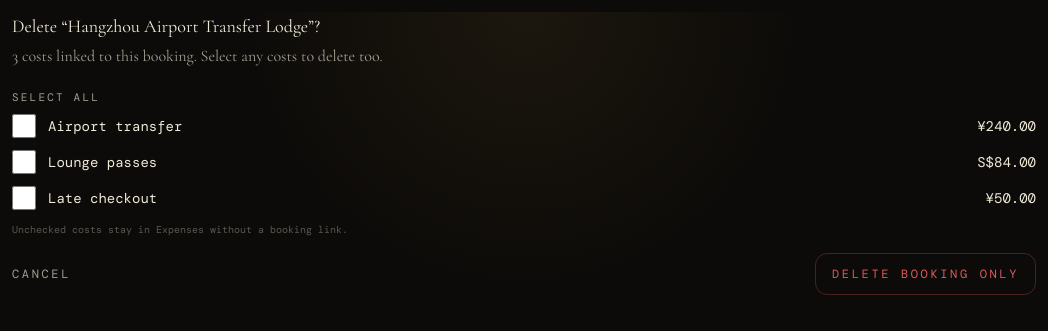
Test: BookingDeleteReview › counts spelling variants of one name as one person
The width and height of the screenshot is (1048, 331).
Click the checkbox labelled "Airport transfer ¥240.00". click: coordinates (24, 126)
box: top-left (12, 114), bottom-right (36, 138)
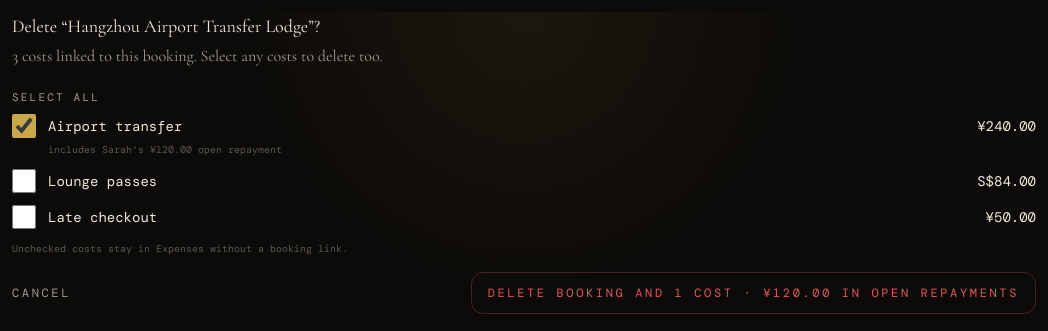
Result: the text "includes Sarah's ¥120.00 open repayment" is shown at top-left (48, 142), bottom-right (282, 156)
